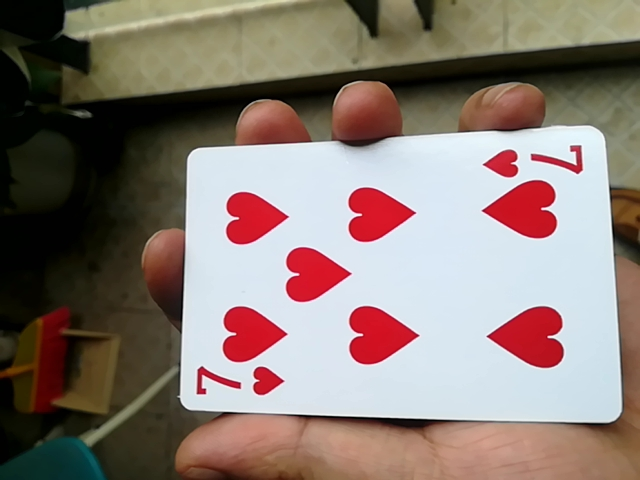hx 7: (159, 134, 618, 430)
